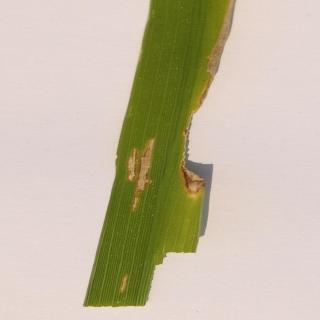Hawar-Daun: (181, 2, 225, 240), (124, 131, 158, 203), (112, 270, 134, 292)
